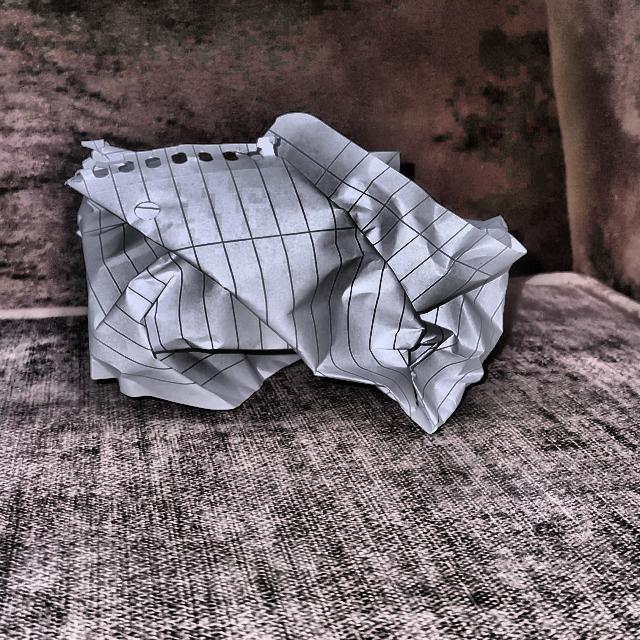paper: (66, 112, 541, 430)
